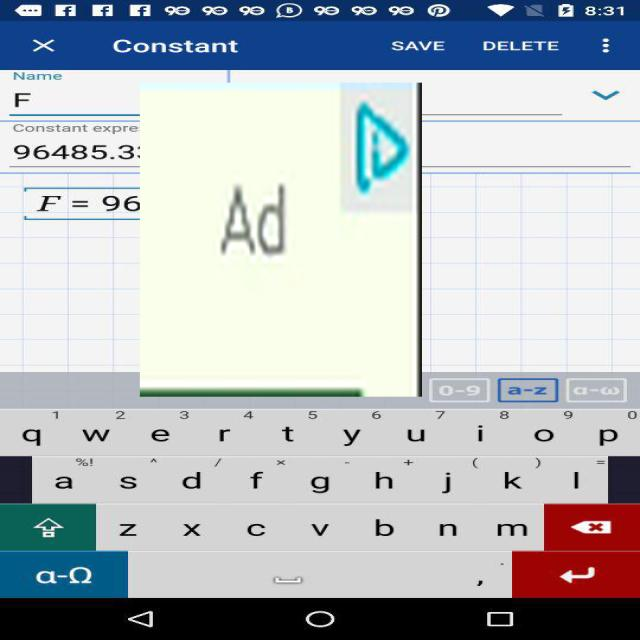sneaking: (140, 82, 422, 396)
